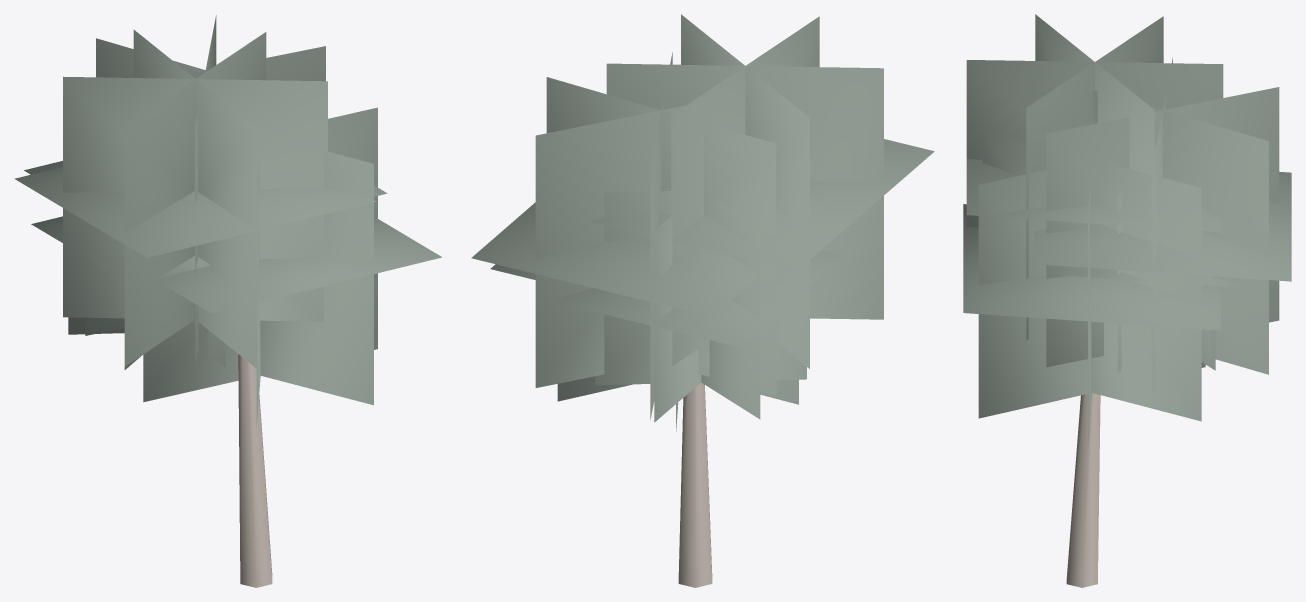
The model's file is tree_2.glb.
The picture shows the model from 3 angles, left to right: view 1: azimuth 30°, elevation 25°; view 2: azimuth 150°, elevation 25°; view 3: azimuth 270°, elevation 25°; orthographic projection. The views are drawn at different scales.
Parts seen in each view (by area): view 1: tree_2; view 2: tree_2; view 3: tree_2.
Part boxes in pixels (x1,y1,x2,y2): tree_2: (14,15,442,587); tree_2: (471,14,934,587); tree_2: (963,14,1291,587).
Bounding box in the file's own units: 6.97 × 11.54 × 6.97.
